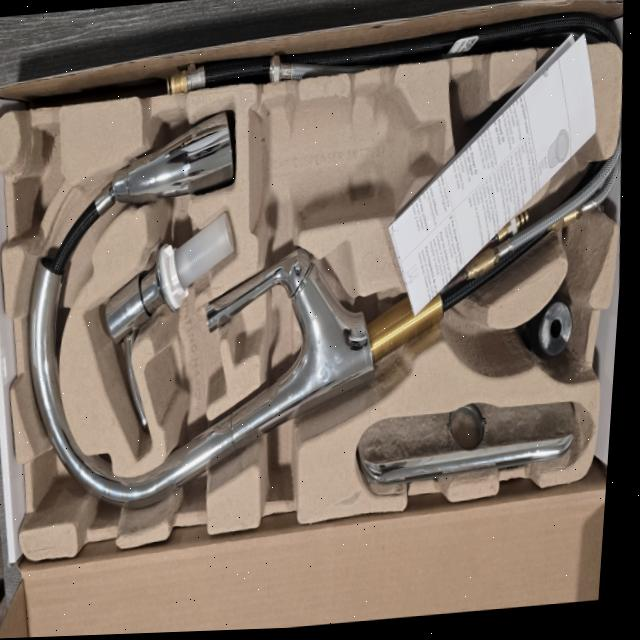1o: (29, 111, 621, 508)
2: (104, 211, 234, 430)
3m: (250, 81, 444, 231)
4: (358, 401, 575, 486)
5: (515, 296, 573, 360)
6m: (521, 58, 582, 166)
7m: (446, 70, 506, 211)
8: (386, 31, 597, 317)
